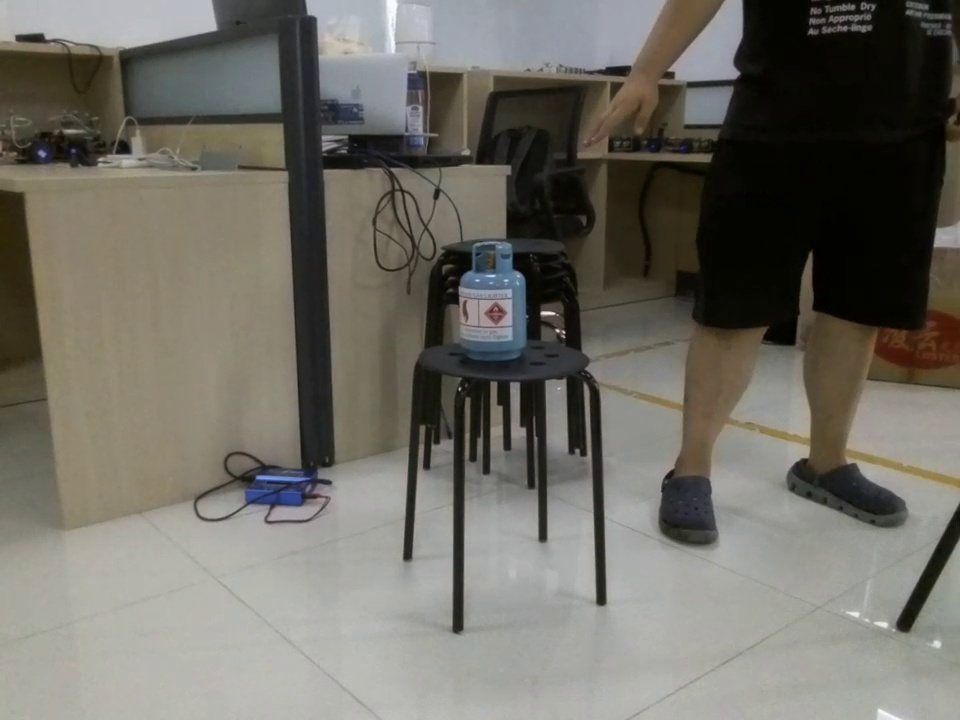gas tank: (452, 238, 536, 366)
